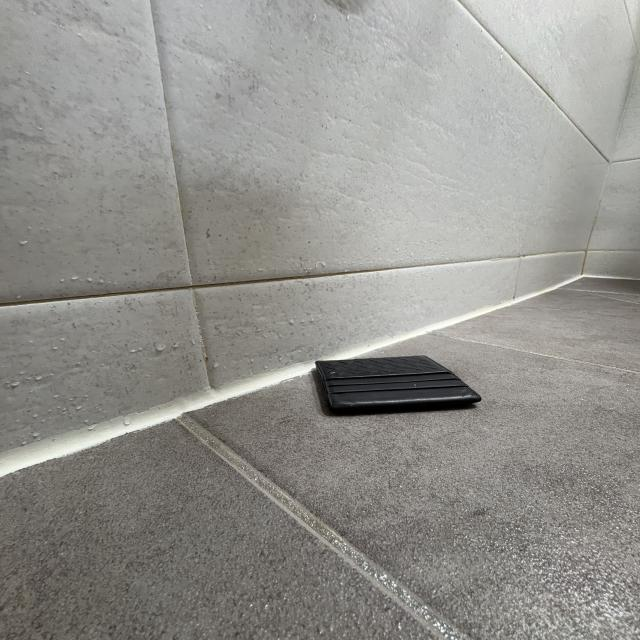wallet: (311, 354, 485, 420)
